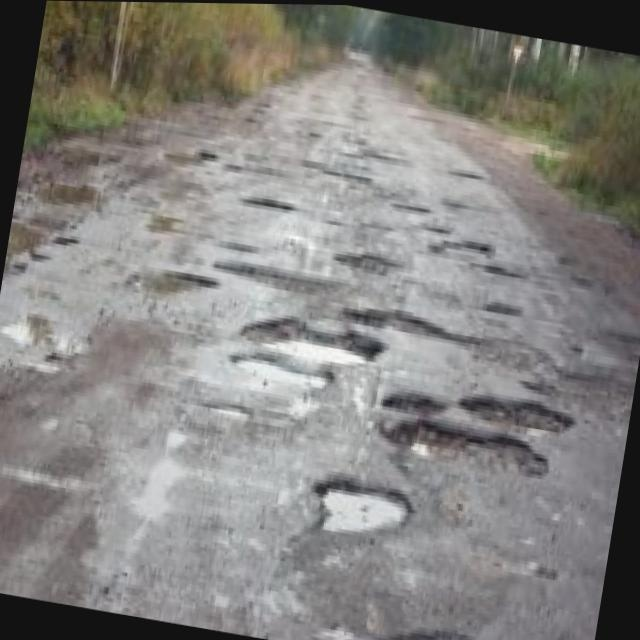pothole: (238, 319, 370, 379), (315, 484, 412, 533)
